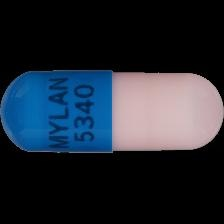51079-949: (0, 0, 224, 224)
